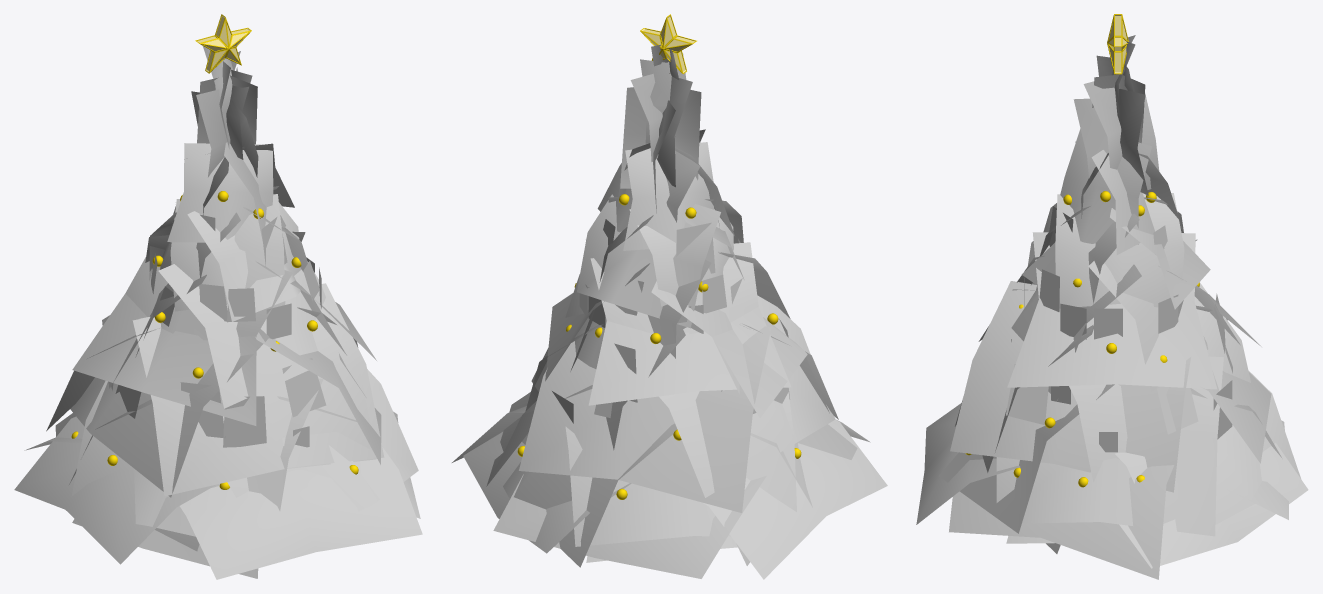
Rendered from Christmastree.fbx.
3 renders of one model, left to right at view 1: azimuth 30°, elevation 25°; view 2: azimuth 150°, elevation 25°; view 3: azimuth 270°, elevation 25°, orthographic.
Parts seen in each view (by area): view 1: m_Fir01_AV1, Plane01, Sphere01, group1, Line01; view 2: m_Fir01_AV1, Plane01, Sphere01, group1, Line01; view 3: m_Fir01_AV1, Plane01, Sphere01, group1, Line01.
Part boxes in pixels (left/top/right/bottom): m_Fir01_AV1: left=14, top=46, right=422, bottom=579; Plane01: left=111, top=209, right=366, bottom=447; Sphere01: left=71, top=191, right=358, bottom=489; group1: left=197, top=15, right=250, bottom=71; Line01: left=195, top=14, right=251, bottom=73; m_Fir01_AV1: left=452, top=44, right=887, bottom=579; Plane01: left=531, top=219, right=790, bottom=423; Sphere01: left=517, top=194, right=801, bottom=499; group1: left=641, top=15, right=695, bottom=72; Line01: left=640, top=14, right=696, bottom=73; m_Fir01_AV1: left=916, top=35, right=1308, bottom=579; Plane01: left=1006, top=206, right=1232, bottom=452; Sphere01: left=965, top=191, right=1199, bottom=487; group1: left=1109, top=15, right=1127, bottom=73; Line01: left=1107, top=14, right=1128, bottom=74.
Bounding box in the file's own units: 515 × 706 × 498.
